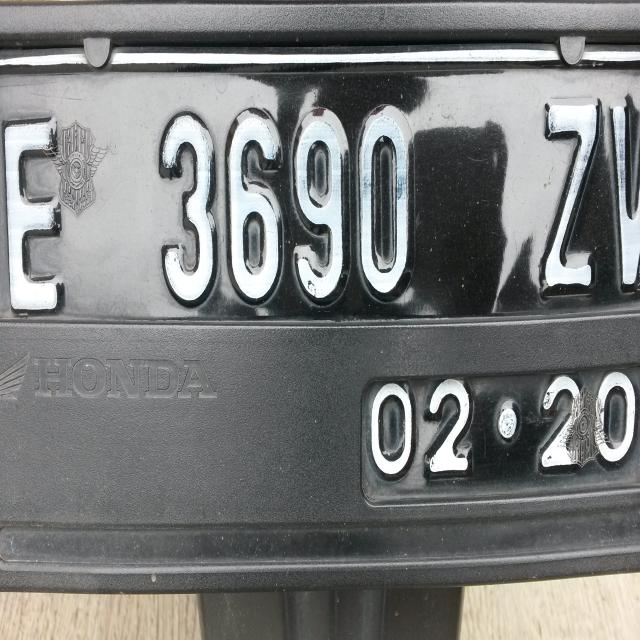plate: (0, 53, 640, 506)
